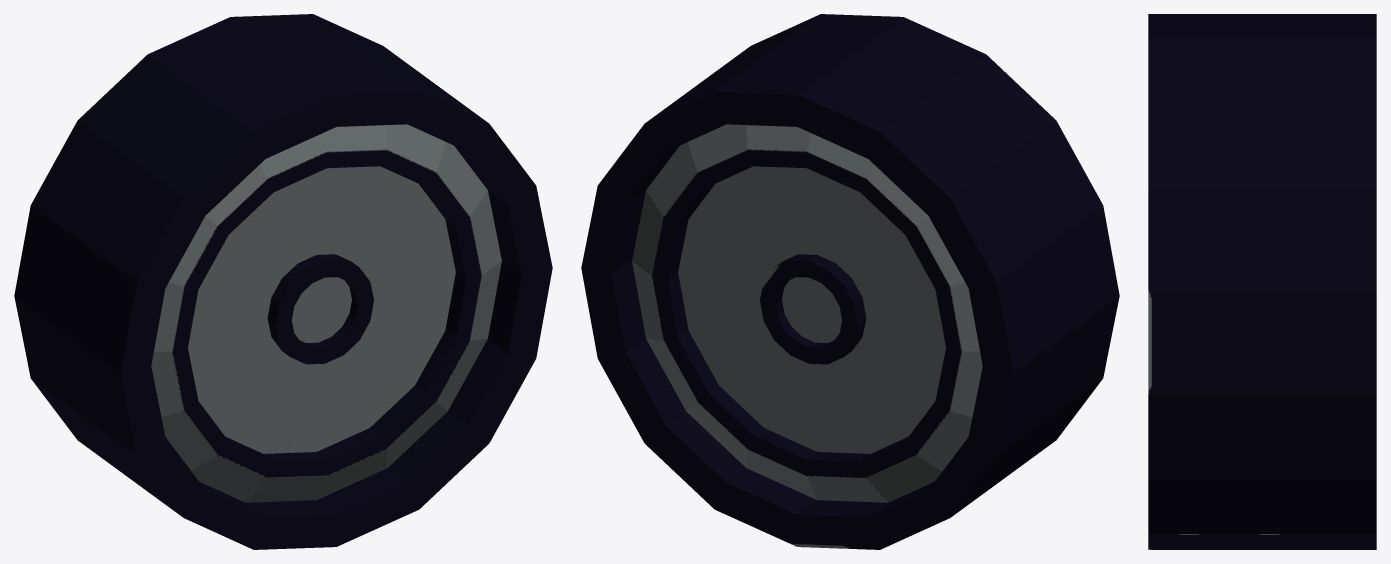
Rendered from roda_do_carro.glb.
3 views of the same model, side by side, from view 1: azimuth 30°, elevation 25°; view 2: azimuth 150°, elevation 25°; view 3: azimuth 270°, elevation 25° (orthographic). The views are drawn at different scales.
Visible parts, largest first — view 1: roda; view 2: roda; view 3: roda.
Boxes of the visible parts, x1=… form: roda: x1=14, y1=14, x2=552, y2=549; roda: x1=581, y1=14, x2=1119, y2=549; roda: x1=1148, y1=14, x2=1376, y2=549.
Bounding box in the file's own units: 0.7009 × 0.7009 × 0.2983.
Materials: 1 (1 with a texture image).
